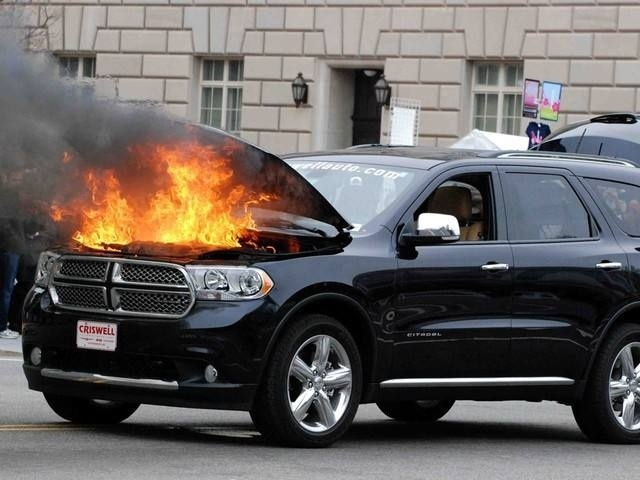fire: (57, 136, 279, 253)
